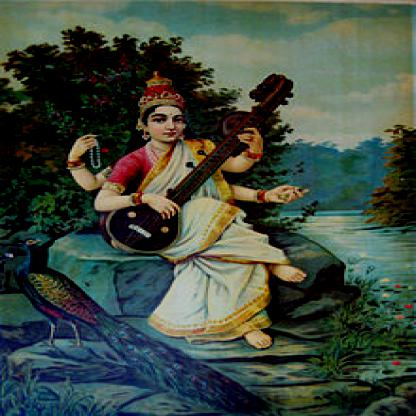Veena: (121, 139, 227, 261)
